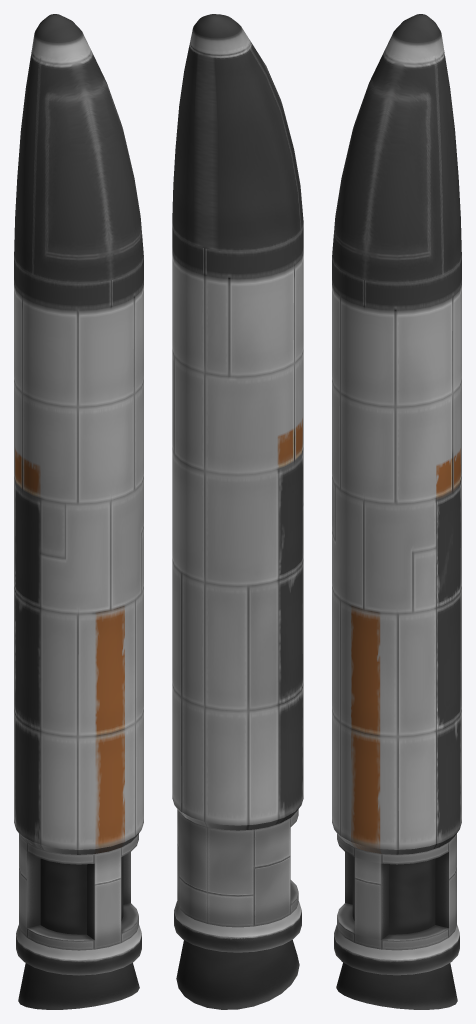
The model's file is bluedog_castorSRB.dae.
3 renders of one model, left to right at view 1: azimuth 30°, elevation 25°; view 2: azimuth 150°, elevation 25°; view 3: azimuth 330°, elevation 25°, orthographic.
Parts seen in each view (by area): view 1: KSP_AtlasSRB_pCylinder3, KSP_AtlasSRB_pCylinder4; view 2: KSP_AtlasSRB_pCylinder3, KSP_AtlasSRB_pCylinder4; view 3: KSP_AtlasSRB_pCylinder3, KSP_AtlasSRB_pCylinder4.
Boxes of the visible parts, x1,y1,x2,y2 form: KSP_AtlasSRB_pCylinder3: [14, 14, 143, 975]; KSP_AtlasSRB_pCylinder4: [18, 962, 139, 1009]; KSP_AtlasSRB_pCylinder3: [172, 14, 303, 952]; KSP_AtlasSRB_pCylinder4: [176, 940, 299, 1009]; KSP_AtlasSRB_pCylinder3: [332, 14, 461, 975]; KSP_AtlasSRB_pCylinder4: [336, 962, 457, 1009].
Bounding box in the file's own units: 0.4998 × 4.14 × 0.4998.
